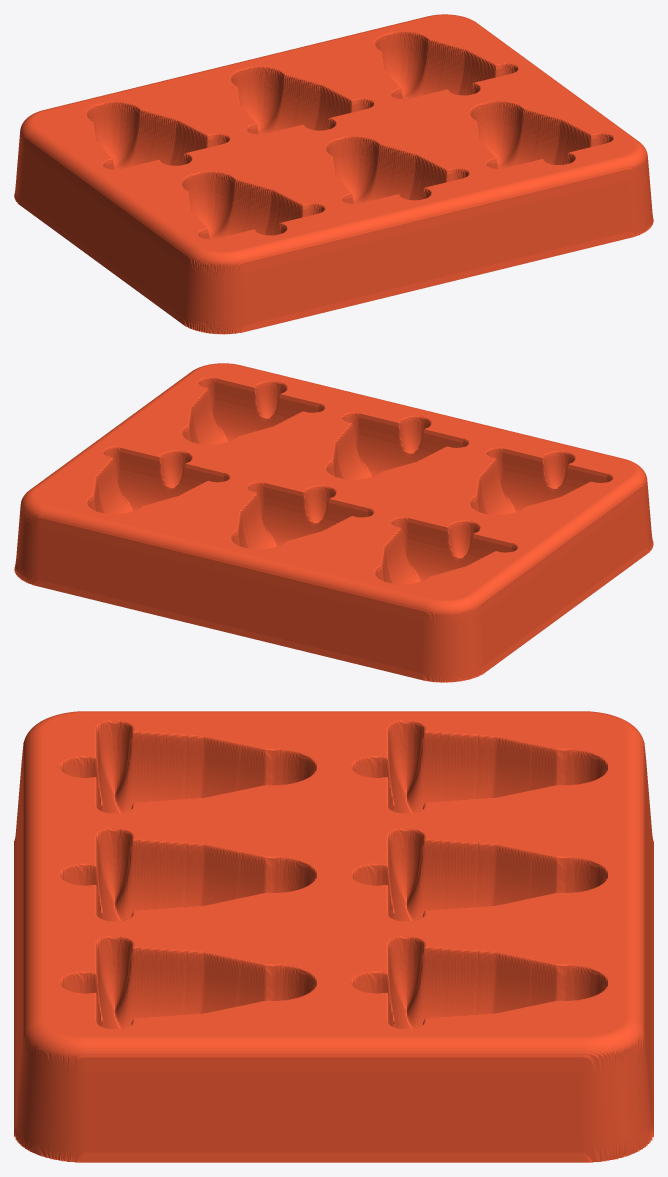
Rendered from mold.glb.
3 renders of one model, top to bottom at view 1: azimuth 30°, elevation 25°; view 2: azimuth 150°, elevation 25°; view 3: azimuth 270°, elevation 25°, orthographic. The views are drawn at different scales.
Parts seen in each view (by area): view 1: geometry_0; view 2: geometry_0; view 3: geometry_0.
Part boxes in pixels (bbox=[...]): geometry_0: bbox=[14, 14, 653, 334]; geometry_0: bbox=[14, 363, 653, 682]; geometry_0: bbox=[14, 711, 653, 1162].
Size of the model in its own units: 0.1038 by 0.0159 by 0.0808.
